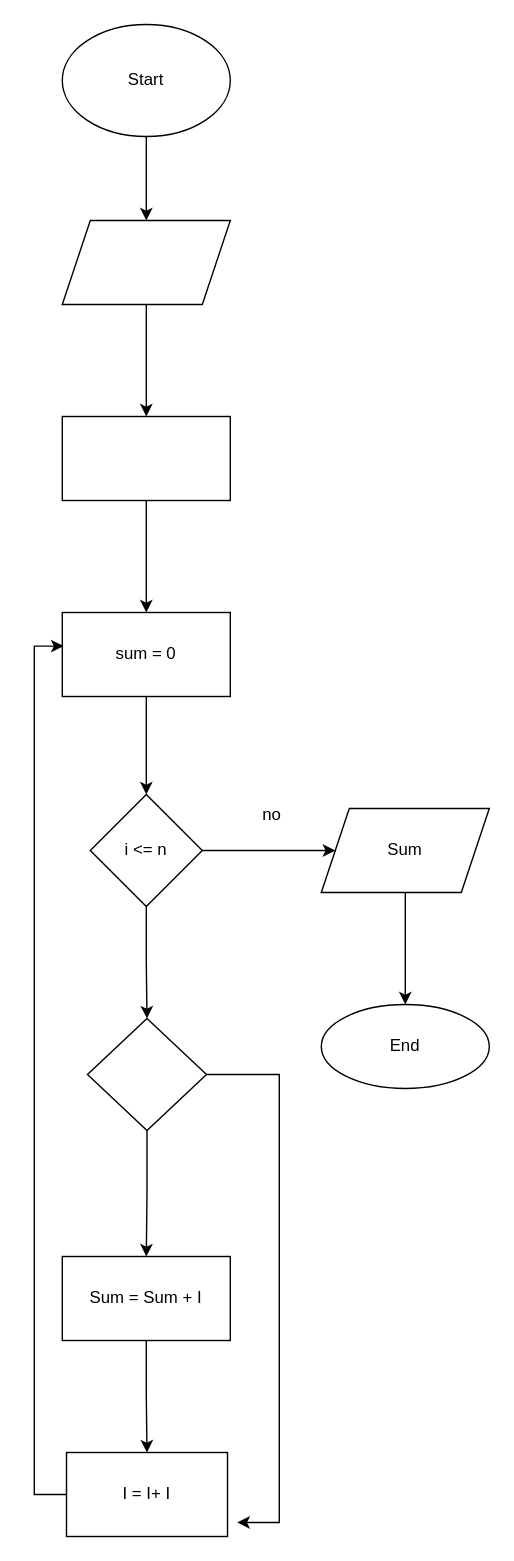
The diagram is 514 pixels wide and 1561 high, and some of its shapes have lost their labels. The centre of each missing label's shape, as x and y in pixels:
get N: the point at 145,261
I % m: the point at 146,1073
I = 1: the point at 145,457
